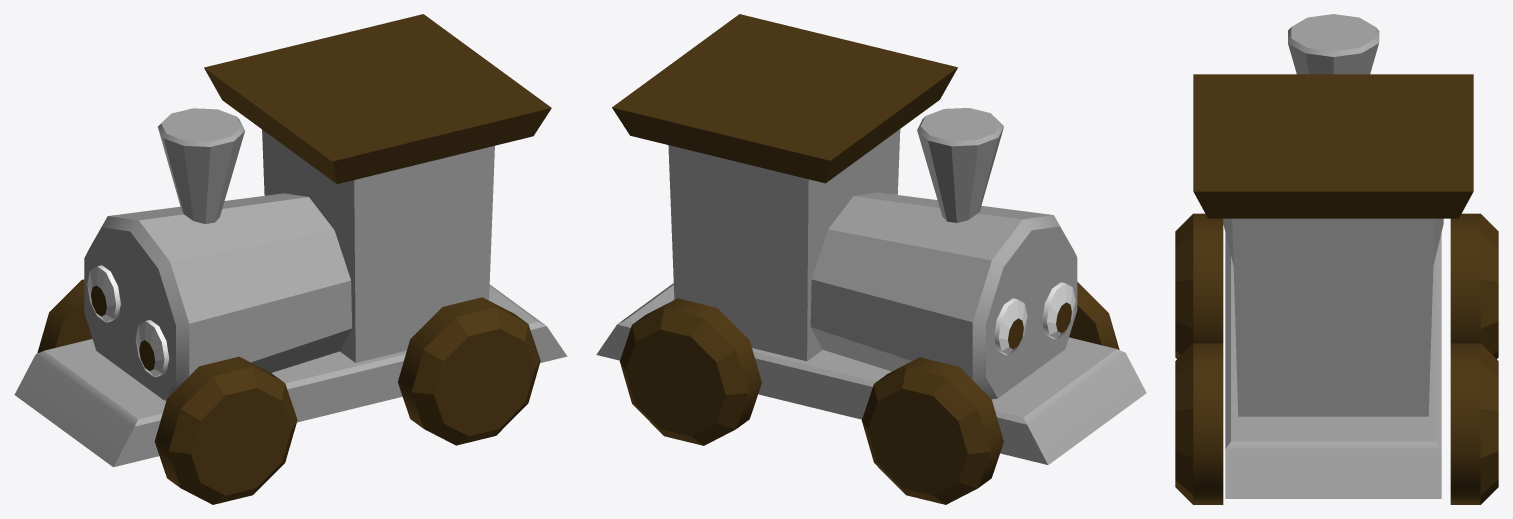
The model's file is geo_TrainHead.fbx.
3 renders of one model, left to right at view 1: azimuth 30°, elevation 25°; view 2: azimuth 150°, elevation 25°; view 3: azimuth 270°, elevation 25°, orthographic. The views are drawn at different scales.
Visible parts, largest first — view 1: pCylinder4, pCube153, pCube151, pCube150, polySurface7, polySurface6, pCylinder5, polySurface12, polySurface10, polySurface11; view 2: pCylinder4, pCube153, pCube151, pCube150, polySurface12, polySurface13, pCylinder5, polySurface6, polySurface10, polySurface11; view 3: pCube153, pCube151, pCube150, polySurface7, polySurface13, polySurface12, polySurface6, pCylinder5, pCylinder4.
Part boxes in pixels (x1,y1,x2,y2): pCylinder4: (84,193,351,400); pCube153: (204,14,551,183); pCube151: (262,129,494,362); pCube150: (14,284,567,467); polySurface7: (398,297,540,445); polySurface6: (154,356,297,504); pCylinder5: (158,108,244,223); polySurface12: (37,279,92,353); polySurface10: (87,265,120,322); polySurface11: (135,320,169,377); pCylinder4: (810,192,1077,399); pCube153: (612,14,957,183); pCube151: (668,129,900,361); pCube150: (596,283,1146,464); polySurface12: (861,357,1003,504); polySurface13: (619,298,761,445); pCylinder5: (917,108,1003,222); polySurface6: (1069,282,1119,349); polySurface10: (994,298,1027,355); polySurface11: (1042,282,1075,339); pCube153: (1193,74,1473,218); pCube151: (1232,218,1434,416); pCube150: (1225,233,1441,498); polySurface7: (1175,343,1223,504); polySurface13: (1450,343,1498,504); polySurface12: (1450,213,1498,358); polySurface6: (1175,213,1223,358); pCylinder5: (1288,14,1379,74); pCylinder4: (1223,218,1443,265).
Size of the model in its own units: 32.32 by 21.76 by 18.26.
Materials: 2 (1 with a texture image).
